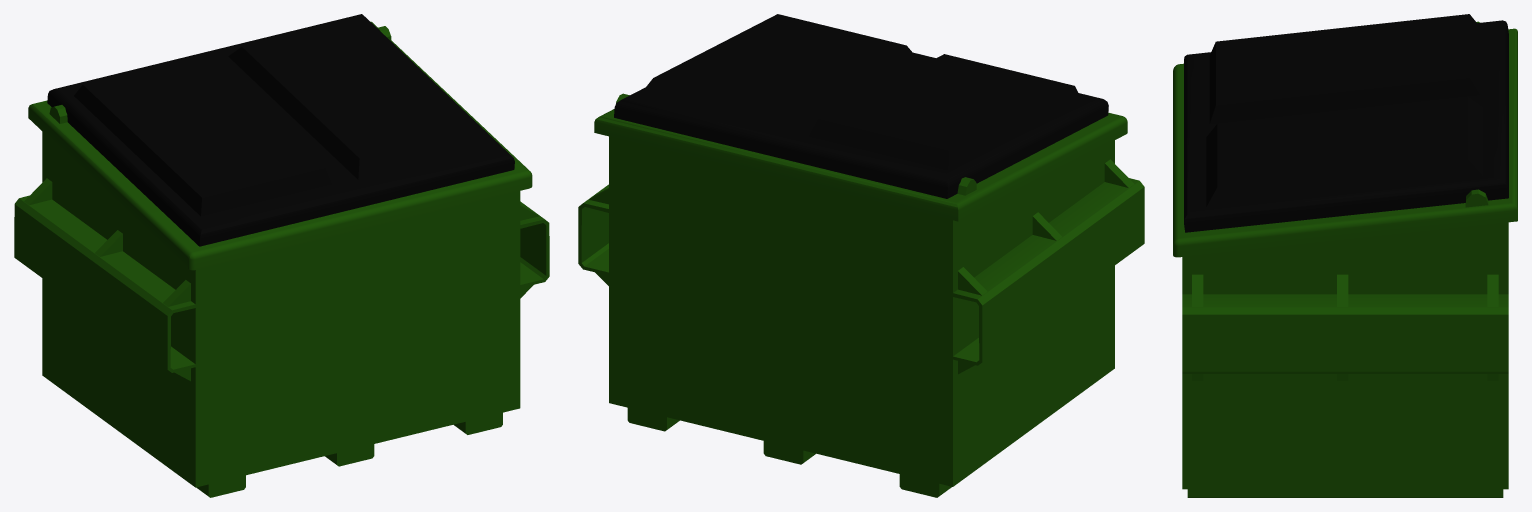
The picture shows the model from 3 angles, left to right: view 1: azimuth 30°, elevation 25°; view 2: azimuth 150°, elevation 25°; view 3: azimuth 270°, elevation 25°; orthographic projection. The views are drawn at different scales.
Visible parts, largest first — view 1: Bin_Large; view 2: Bin_Large; view 3: Bin_Large.
Part boxes in pixels (x1,y1,x2,y2): Bin_Large: [14, 14, 549, 497]; Bin_Large: [578, 14, 1144, 497]; Bin_Large: [1173, 14, 1517, 497].
Size of the model in its own units: 13.42 by 10.59 by 9.87.
